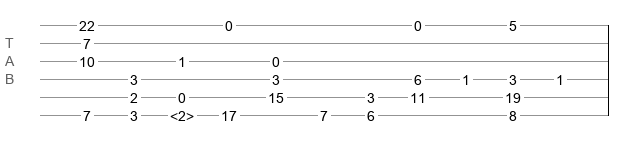0: (178, 90, 186, 100), (225, 18, 233, 28), (272, 54, 280, 64), (414, 18, 422, 28)
1: (178, 54, 186, 64), (462, 72, 470, 82), (556, 72, 564, 82)
10: (79, 54, 95, 64)
11: (410, 90, 426, 100)
15: (268, 90, 284, 100)
17: (221, 108, 237, 118)
19: (505, 90, 521, 100)
2: (130, 90, 138, 100)
22: (79, 18, 95, 28)
3: (130, 108, 138, 118), (130, 72, 138, 82), (272, 72, 280, 82), (367, 90, 375, 100), (509, 72, 517, 82)
5: (509, 18, 517, 28)
6: (367, 108, 375, 118), (414, 72, 422, 82)
7: (83, 36, 91, 46), (83, 108, 91, 118), (320, 108, 328, 118)
8: (509, 108, 517, 118)
harmonic: (170, 108, 194, 118)
